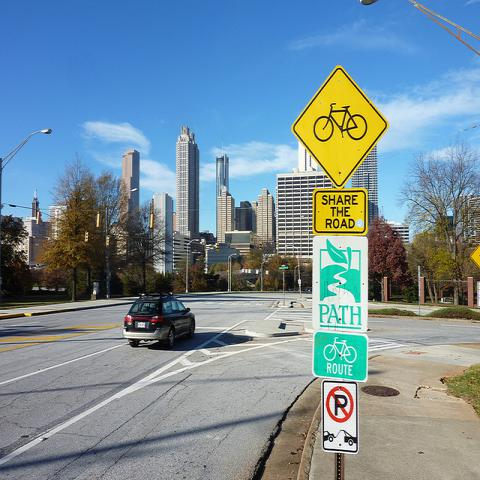car: (122, 292, 195, 350)
